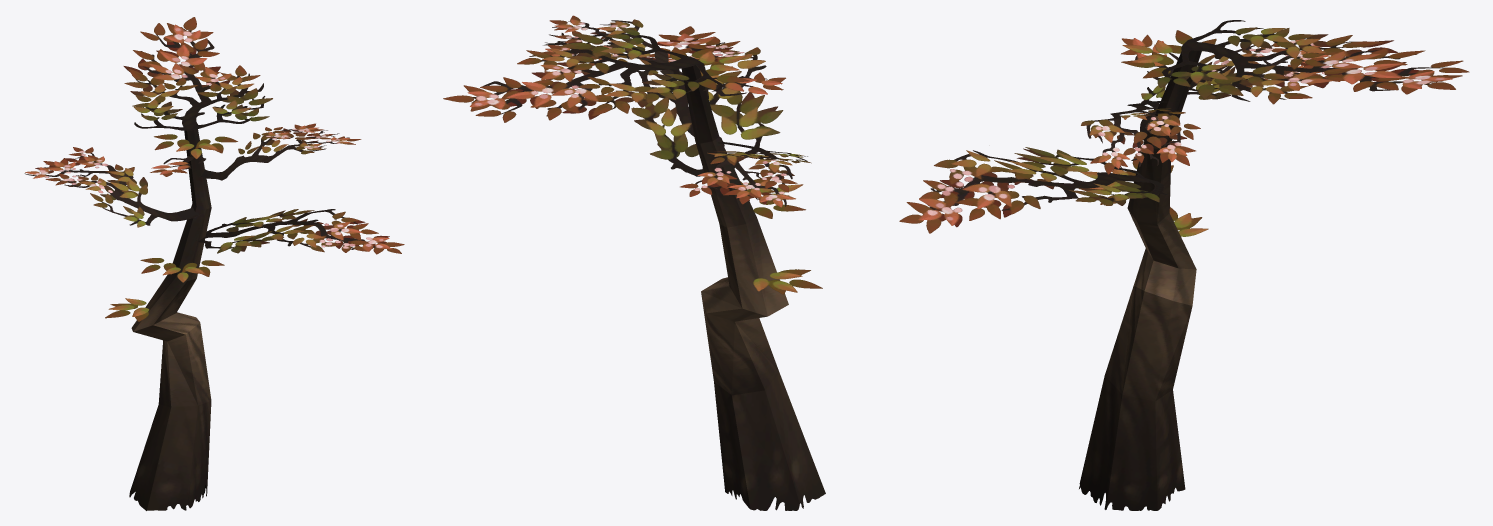
The model's file is cherrytree_small_01.fbx.
3 views of the same model, side by side, from view 1: azimuth 30°, elevation 25°; view 2: azimuth 150°, elevation 25°; view 3: azimuth 270°, elevation 25° (orthographic). The views are drawn at different scales.
Parts seen in each view (by area): view 1: obj1.020; view 2: obj1.020; view 3: obj1.020.
Boxes of the visible parts, left/top/right/bottom form: obj1.020: left=24, top=17, right=404, bottom=510; obj1.020: left=443, top=15, right=825, bottom=510; obj1.020: left=899, top=20, right=1469, bottom=510.
Size of the model in its own units: 3.94 by 4.92 by 5.33.
